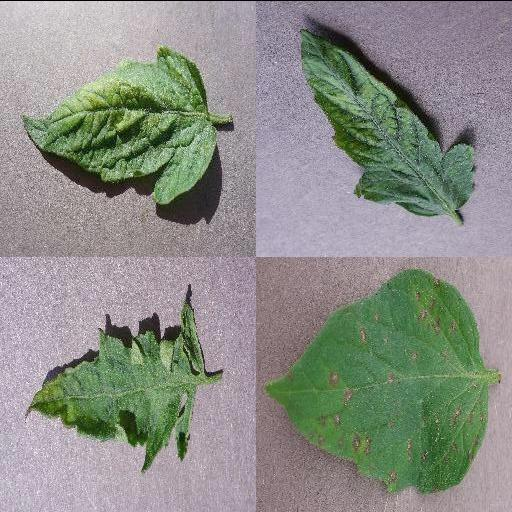Mosaic Virus: (297, 28, 477, 216), (24, 301, 208, 471)
Septoria: (262, 266, 488, 492)
Spider Mites: (21, 44, 219, 203)
